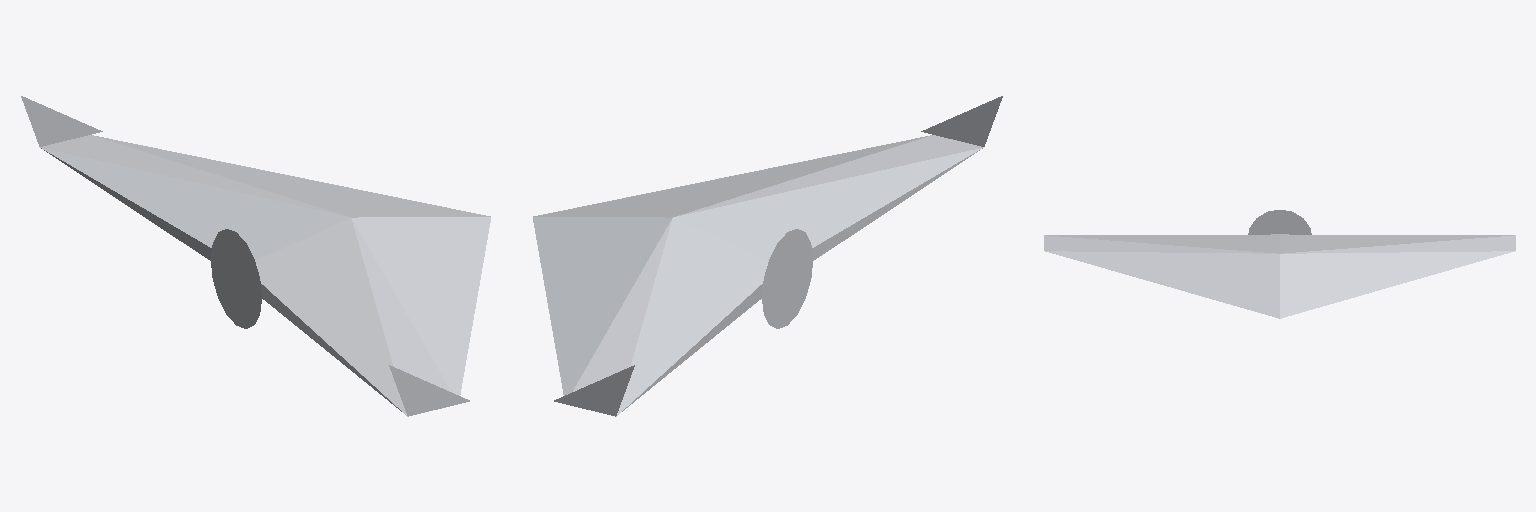
robot.urdf — fixedwing:
<?xml version="1.0"?>
<robot name="fixedwing">
  <material name="body"><color rgba="0.85 0.86 0.88 1"/></material>
  <link name="base_link">
    <inertial>
      <origin xyz="0 0 0"/>
      <mass value="3.0"/>
      <inertia ixx="0.25" iyy="0.35" izz="0.55" ixy="0" ixz="0" iyz="0"/>
    </inertial>
    <visual>
      <origin xyz="0 0 0"/>
      <geometry><mesh filename="fixedwing.stl" scale="0.001 0.001 0.001"/></geometry>
      <material name="body"/>
    </visual>
    <collision>
      <origin xyz="0.081 0 0"/>
      <geometry><box size="0.702 0.540 0.135"/></geometry>
    </collision>
    <collision>
      <origin xyz="-0.225 0 0"/>
      <geometry><box size="0.288 1.800 0.03"/></geometry>
    </collision>
  </link>
</robot>

--- Render facts (derived) ---
3 views of the same robot in one strip: view 1: azimuth 30°, elevation 25°; view 2: azimuth 150°, elevation 25°; view 3: azimuth 270°, elevation 25° (orthographic).
Model fixedwing with 1 links and 0 joints (none), rooted at base_link, posed all joints at 0.
Visible links, largest first — view 1: base_link; view 2: base_link; view 3: base_link.
Link boxes in pixels (left/top/right/bottom): base_link: left=21, top=96, right=490, bottom=416; base_link: left=533, top=96, right=1002, bottom=416; base_link: left=1044, top=210, right=1515, bottom=318.
Size in the robot's own frame: 0.81 by 1.8 by 0.279 metres.
Meshes: 1 distinct files referenced, 1 mesh visuals loaded (1 binary STL).
